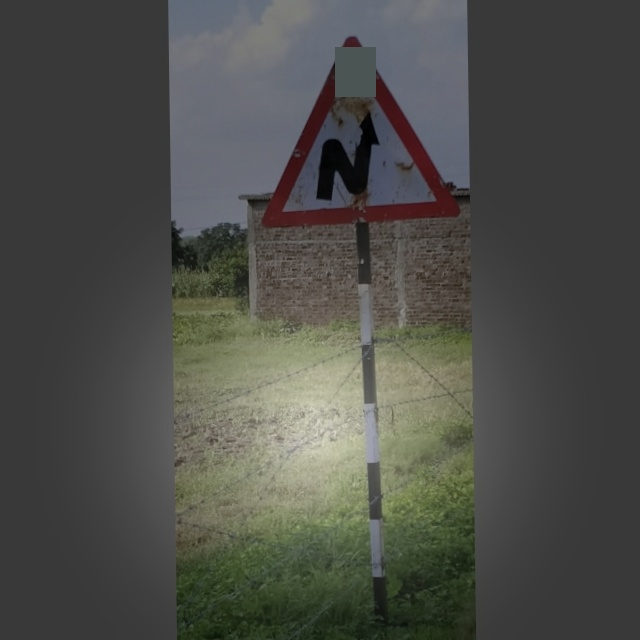Right_Reverse_Bend: (262, 34, 461, 224)
